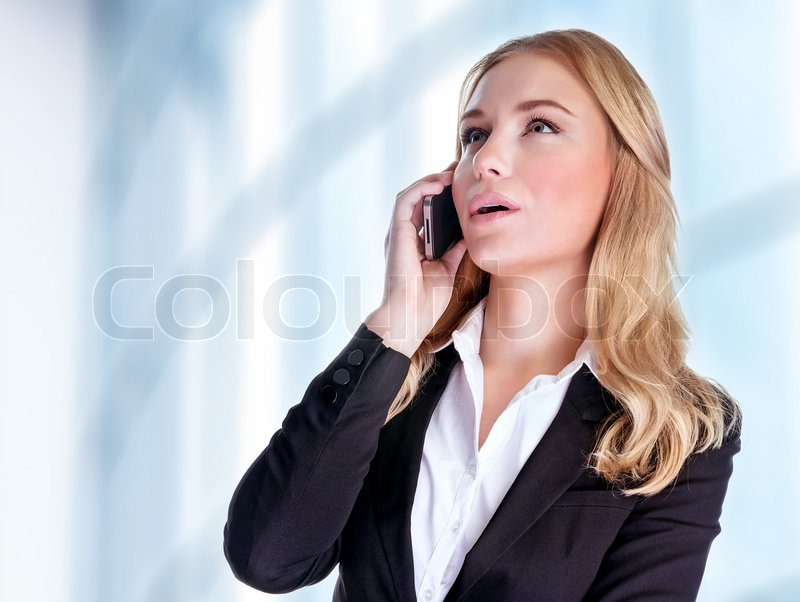phone: (380, 163, 469, 267)
talk: (382, 95, 582, 301)
